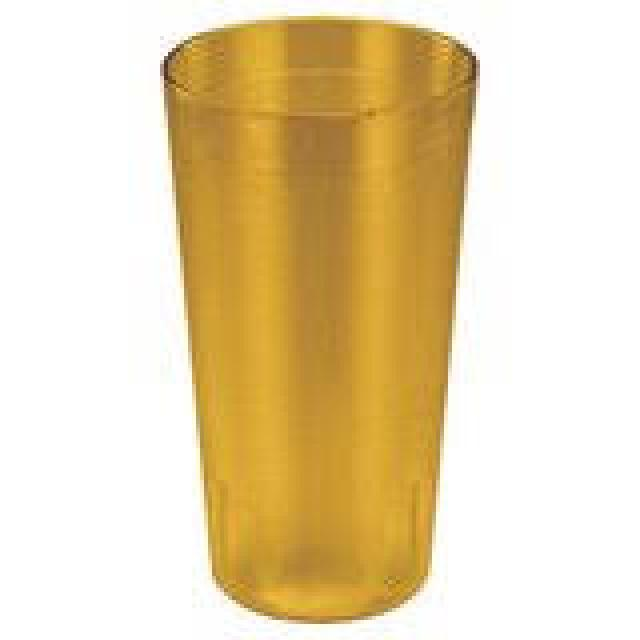glass: (160, 12, 476, 612)
